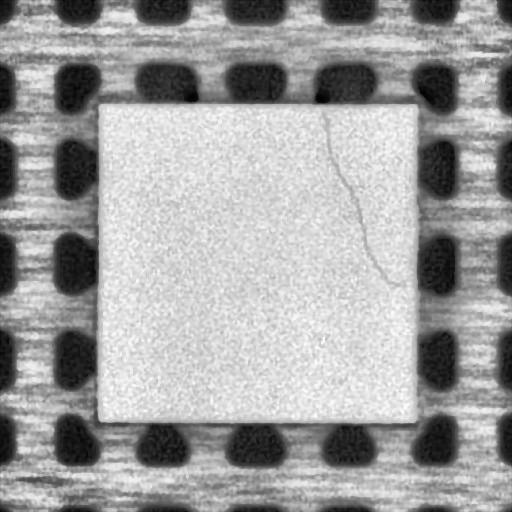DIE_CRACK: (321, 110, 401, 289)
